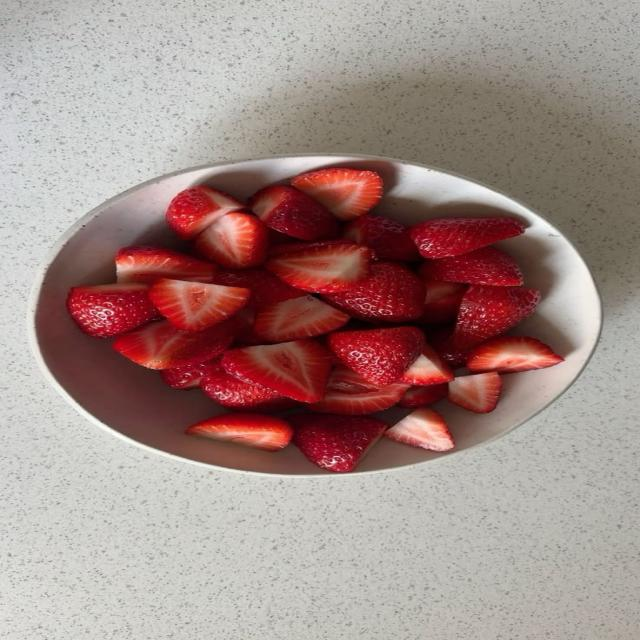strawberry sliced: (222, 339, 331, 402), (323, 261, 424, 322), (113, 320, 235, 369), (327, 327, 425, 386), (288, 414, 387, 472), (266, 241, 371, 292), (454, 285, 539, 348), (149, 279, 250, 331), (249, 186, 338, 240), (67, 283, 156, 337), (292, 168, 382, 220), (410, 218, 524, 258), (312, 366, 407, 414), (254, 296, 349, 342), (200, 368, 297, 412), (167, 185, 246, 239), (194, 213, 268, 268), (186, 414, 293, 451), (420, 247, 522, 285), (115, 246, 215, 283), (214, 268, 306, 308), (343, 215, 419, 260), (467, 337, 564, 372), (386, 408, 453, 451), (448, 372, 502, 413), (400, 345, 453, 385), (420, 281, 466, 324), (160, 358, 220, 389), (429, 326, 469, 368), (268, 239, 353, 257), (398, 384, 447, 408), (234, 307, 264, 345), (268, 228, 296, 246)
